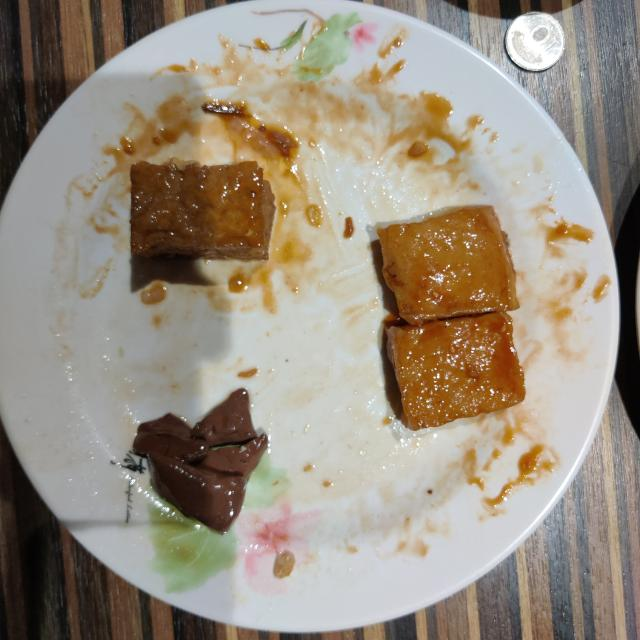coin: (505, 12, 565, 71)
creamy tofu: (378, 206, 525, 430)
egg tofu: (130, 161, 275, 260)
pig blood curd: (134, 389, 268, 532)
